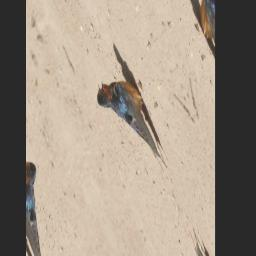Swallow: (92, 59, 170, 198)
